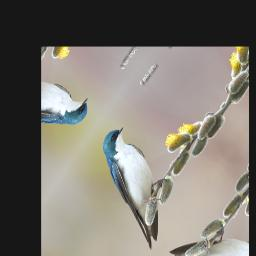Swallow: (71, 120, 198, 251)
